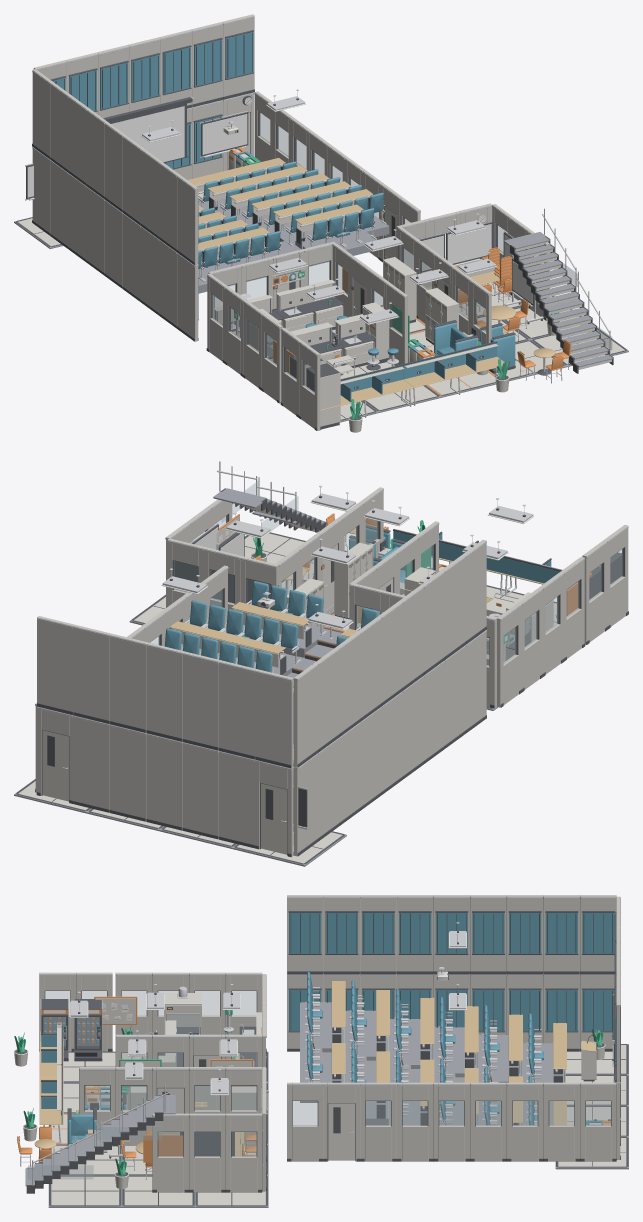
Rendered from lecture-campus.glb.
The picture shows the model from 3 angles, top to bottom: view 1: azimuth 30°, elevation 25°; view 2: azimuth 150°, elevation 25°; view 3: azimuth 270°, elevation 25°; orthographic projection. The views are drawn at different scales.
Parts seen in each view (by area): view 1: 081-projection-screen/2, 194-stair-flight/0, 193-stair-flight/0, 172-whiteboard-bank/1, 061-theatre-wall-panel/0, 060-theatre-wall-panel/0, 179-corridor-wall-module/0, 037-theatre-wall-panel/0, 040-theatre-wall-panel/0, 043-theatre-wall-panel/0, 046-theatre-wall-panel/0, 058-theatre-wall-panel/0 (+76 smaller); view 2: 023-theatre-wall-panel/0, 031-theatre-wall-panel/0, 035-theatre-wall-panel/0, 029-theatre-wall-panel/0, 027-theatre-wall-panel/0, 033-theatre-wall-panel/0, 025-theatre-wall-panel/0, 030-theatre-wall-panel/0, 028-theatre-wall-panel/0, 026-theatre-wall-panel/0, 024-theatre-wall-panel/0, 032-theatre-wall-panel/0 (+56 smaller); view 3: 044-corridor-wall-module/0, 151-corridor-wall-module/0, 038-corridor-wall-module/0, 047-corridor-wall-module/0, 056-corridor-wall-module/0, 152-corridor-wall-module/0, 041-corridor-wall-module/0, 062-corridor-wall-module/0, 050-corridor-wall-module/0, 053-corridor-wall-module/0, 153-corridor-wall-module/0, 018-floor-tile/2 (+125 smaller).
Boxes of the visible parts, box(x1,y1,x2,y2) form: 081-projection-screen/2: box(111, 106, 184, 162); 194-stair-flight/0: box(504, 232, 578, 304); 193-stair-flight/0: box(537, 299, 612, 367); 172-whiteboard-bank/1: box(404, 224, 491, 270); 061-theatre-wall-panel/0: box(177, 175, 198, 265); 060-theatre-wall-panel/0: box(177, 253, 198, 341); 179-corridor-wall-module/0: box(299, 341, 320, 430); 037-theatre-wall-panel/0: box(32, 69, 52, 156); 040-theatre-wall-panel/0: box(50, 82, 71, 169); 043-theatre-wall-panel/0: box(68, 95, 89, 182); 046-theatre-wall-panel/0: box(86, 109, 107, 196); 058-theatre-wall-panel/0: box(159, 162, 179, 248); 023-theatre-wall-panel/0: box(255, 669, 293, 768); 031-theatre-wall-panel/0: box(110, 633, 147, 732); 035-theatre-wall-panel/0: box(37, 616, 74, 714); 029-theatre-wall-panel/0: box(146, 642, 184, 741); 027-theatre-wall-panel/0: box(182, 651, 220, 750); 033-theatre-wall-panel/0: box(73, 625, 111, 723); 025-theatre-wall-panel/0: box(219, 660, 256, 758); 030-theatre-wall-panel/0: box(110, 724, 146, 821); 028-theatre-wall-panel/0: box(146, 733, 182, 830); 026-theatre-wall-panel/0: box(182, 742, 218, 838); 024-theatre-wall-panel/0: box(219, 751, 255, 844); 032-theatre-wall-panel/0: box(73, 715, 109, 812); 044-corridor-wall-module/0: box(506, 1082, 543, 1161); 151-corridor-wall-module/0: box(225, 1113, 262, 1192); 038-corridor-wall-module/0: box(580, 1082, 616, 1161); 047-corridor-wall-module/0: box(470, 1082, 506, 1161); 056-corridor-wall-module/0: box(360, 1082, 396, 1161); 152-corridor-wall-module/0: box(189, 1113, 225, 1192); 041-corridor-wall-module/0: box(543, 1082, 579, 1161); 062-corridor-wall-module/0: box(287, 1082, 323, 1161); 050-corridor-wall-module/0: box(433, 1082, 469, 1161); 053-corridor-wall-module/0: box(397, 1082, 433, 1161); 153-corridor-wall-module/0: box(152, 1113, 188, 1192); 018-floor-tile/2: box(51, 1176, 118, 1205).
Size of the model in its own units: 12.6 by 5.65 by 20.13.
